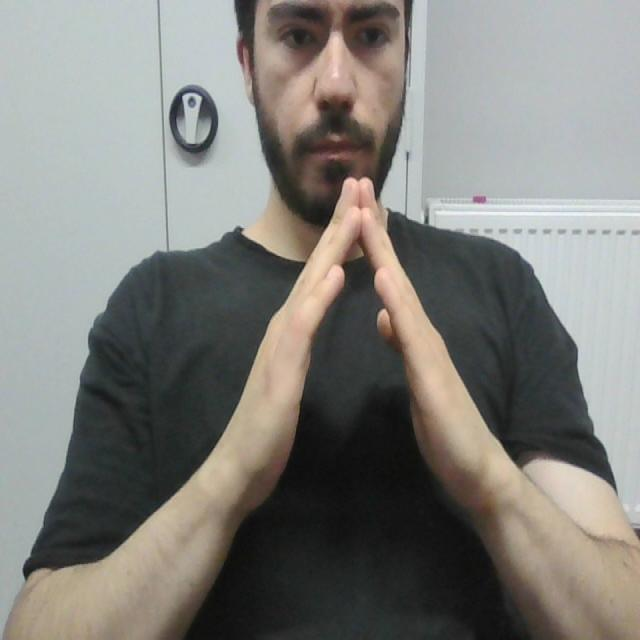Ev: (215, 174, 497, 492)
